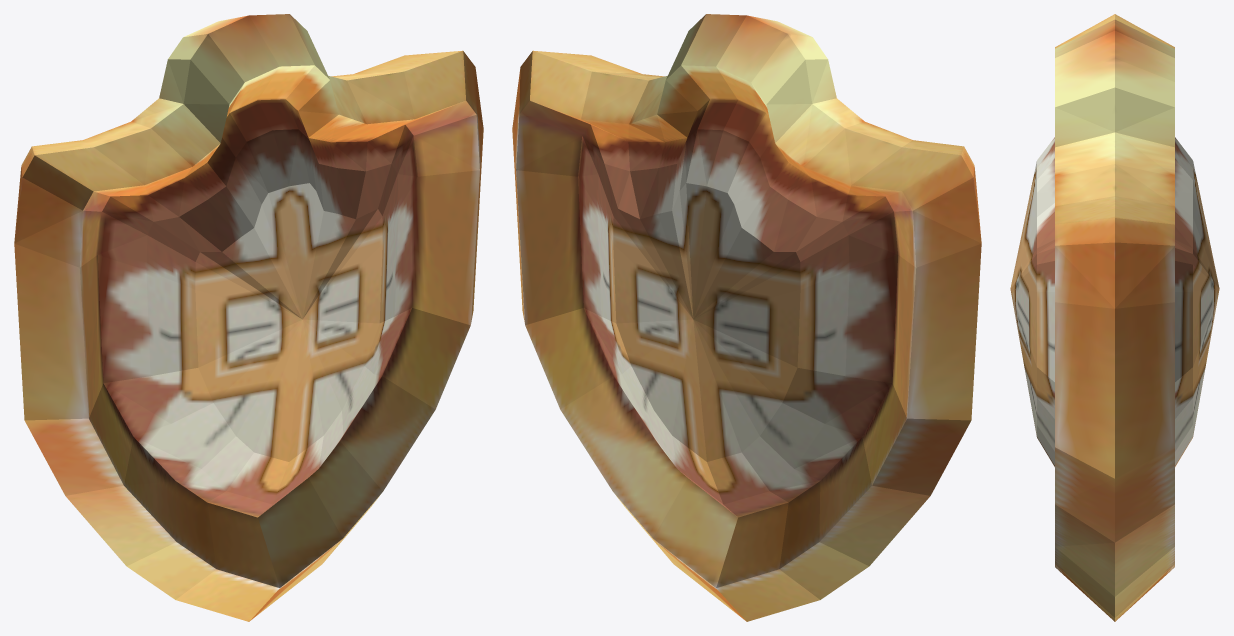
File: nextg.ico.obj
3 renders of one model, left to right at view 1: azimuth 30°, elevation 25°; view 2: azimuth 150°, elevation 25°; view 3: azimuth 270°, elevation 25°, orthographic. The views are drawn at different scales.
Bounding box in the file's own units: 2.88 × 3.55 × 1.14.
Materials: 1 (1 with a texture image).
